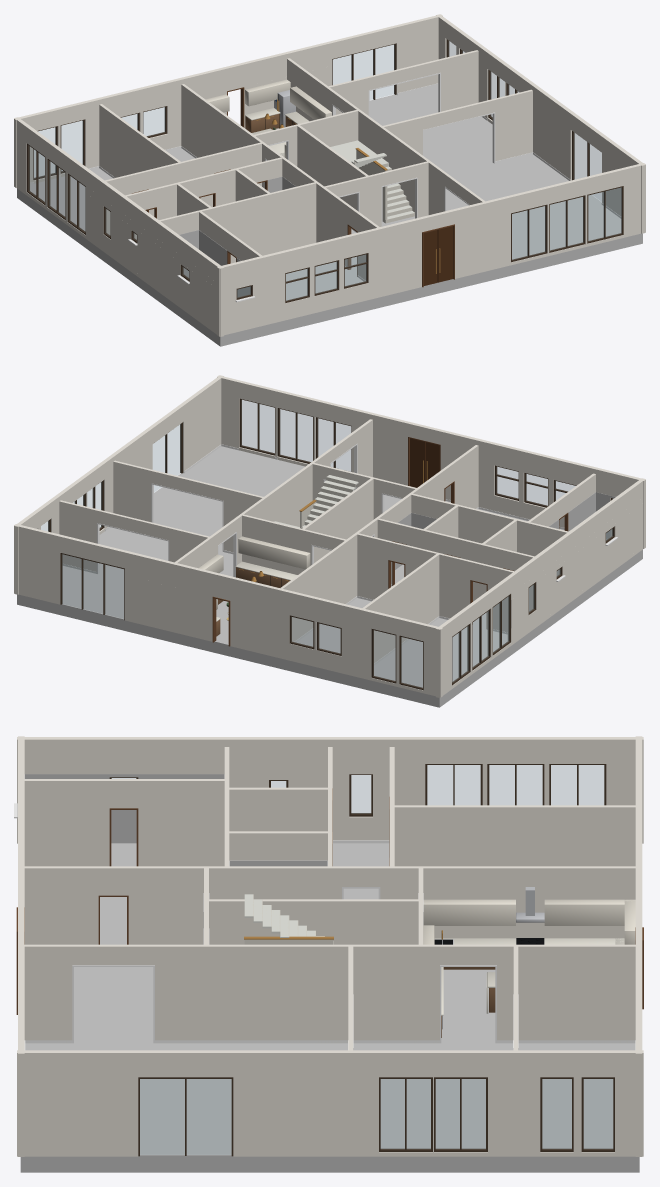
Rendered from int_est_S5_0.glb.
3 views of the same model, one above another, from view 1: azimuth 30°, elevation 25°; view 2: azimuth 150°, elevation 25°; view 3: azimuth 270°, elevation 25° (orthographic). The views are drawn at different scales.
Visible parts, largest first — view 1: WALL_0, ROOM, WALL_9, WALL_12, WALL_4, WALL_10, WALL_1, WALL_2, WALL_3, WALL_8, WALL_16, WALL_13 (+7 smaller); view 2: ROOM, WALL_9, WALL_0, WALL_12, WALL_2, WALL_4, WALL_1, WALL_10, WALL_16, WALL_3, WALL_8, WALL_17 (+7 smaller); view 3: WALL_4, ROOM, WALL_2, WALL_12, WALL_1, WALL_11, WALL_17, WALL_7, WALL_10, WALL_15, WALL_9, WALL_0 (+4 smaller).
Part boxes in pixels (left/top/right/bottom): WALL_0: left=217, top=163, right=645, bottom=336; ROOM: left=17, top=79, right=642, bottom=346; WALL_9: left=14, top=14, right=442, bottom=187; WALL_12: left=14, top=117, right=223, bottom=336; WALL_4: left=436, top=14, right=645, bottom=233; WALL_10: left=86, top=182, right=316, bottom=333; WALL_1: left=181, top=84, right=379, bottom=280; WALL_2: left=244, top=58, right=484, bottom=214; WALL_3: left=381, top=89, right=532, bottom=163; WALL_8: left=327, top=50, right=478, bottom=116; WALL_16: left=105, top=142, right=261, bottom=235; WALL_13: left=125, top=157, right=282, bottom=239; ROOM: left=17, top=444, right=642, bottom=707; WALL_9: left=14, top=524, right=442, bottom=697; WALL_0: left=217, top=375, right=645, bottom=548; WALL_12: left=436, top=478, right=645, bottom=697; WALL_2: left=125, top=419, right=372, bottom=641; WALL_4: left=14, top=375, right=223, bottom=594; WALL_1: left=280, top=445, right=478, bottom=641; WALL_10: left=411, top=493, right=642, bottom=642; WALL_16: left=357, top=533, right=513, bottom=632; WALL_3: left=113, top=460, right=264, bottom=552; WALL_8: left=59, top=500, right=210, bottom=573; WALL_17: left=362, top=554, right=439, bottom=663; WALL_4: left=17, top=1050, right=643, bottom=1156; ROOM: left=20, top=774, right=639, bottom=1172; WALL_2: left=24, top=944, right=635, bottom=1043; WALL_12: left=17, top=737, right=643, bottom=843; WALL_1: left=24, top=866, right=635, bottom=944; WALL_11: left=24, top=779, right=224, bottom=866; WALL_17: left=394, top=805, right=635, bottom=866; WALL_7: left=209, top=899, right=418, bottom=944; WALL_10: left=17, top=747, right=425, bottom=866; WALL_15: left=229, top=787, right=330, bottom=831; WALL_9: left=635, top=736, right=643, bottom=1156; WALL_0: left=14, top=736, right=24, bottom=1156.
Bounding box in the file's own units: 23.82 × 4.2 × 19.91.
Materials: 16 (1 with a texture image).
